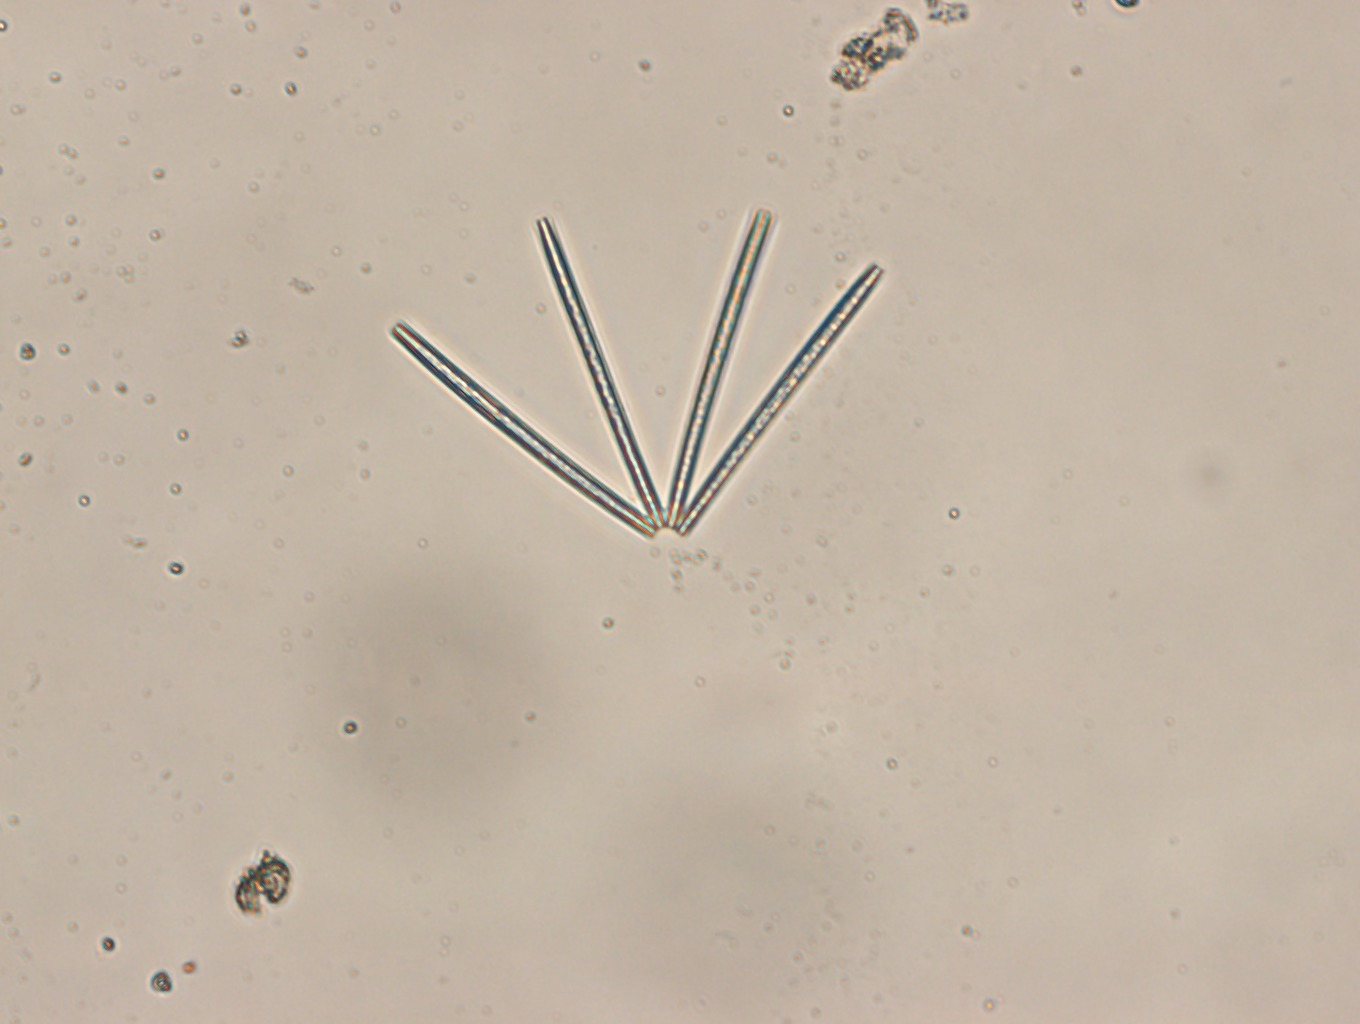thalassionema frauenfeldii: (388, 205, 883, 538)
